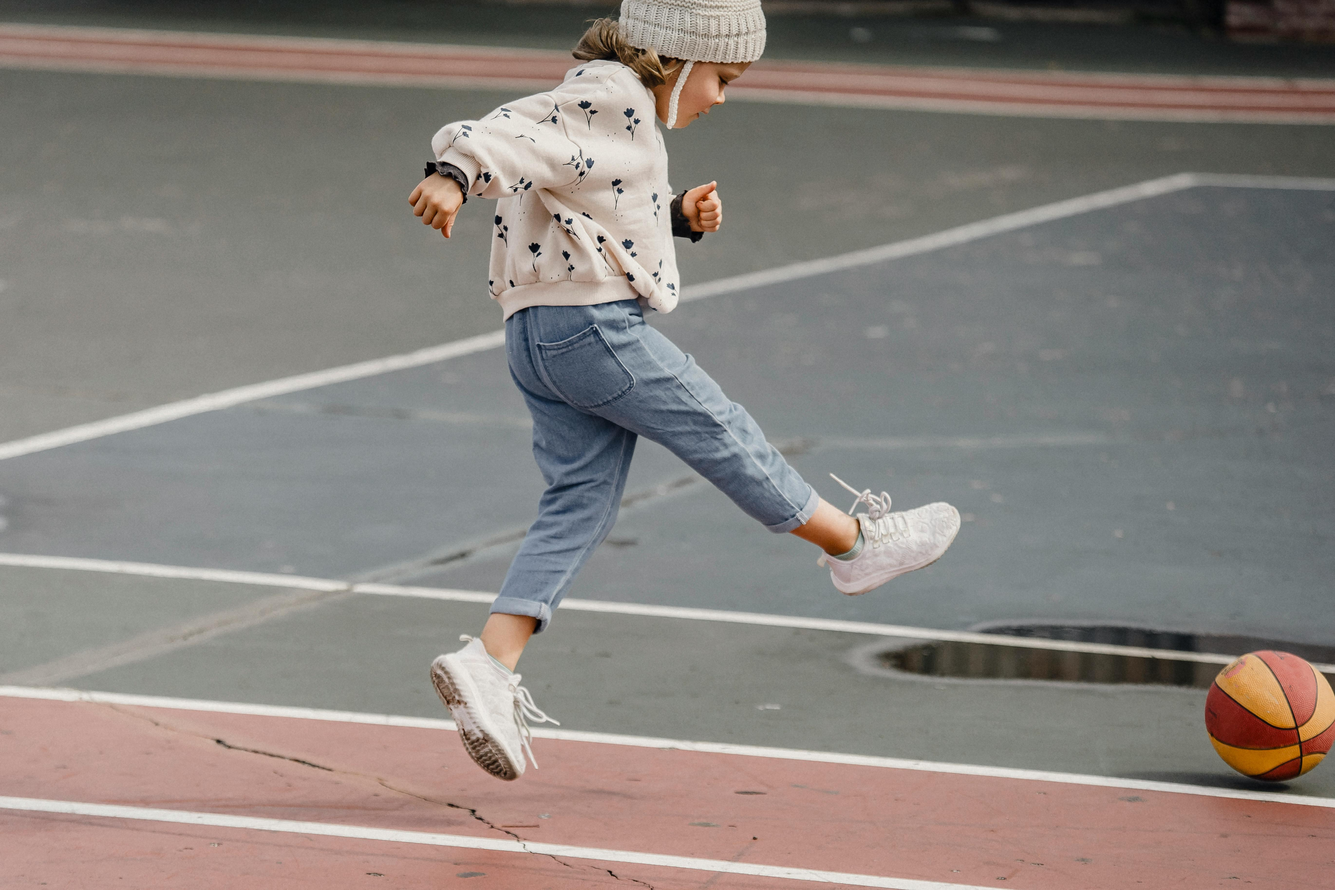Human: (405, 0, 969, 813)
